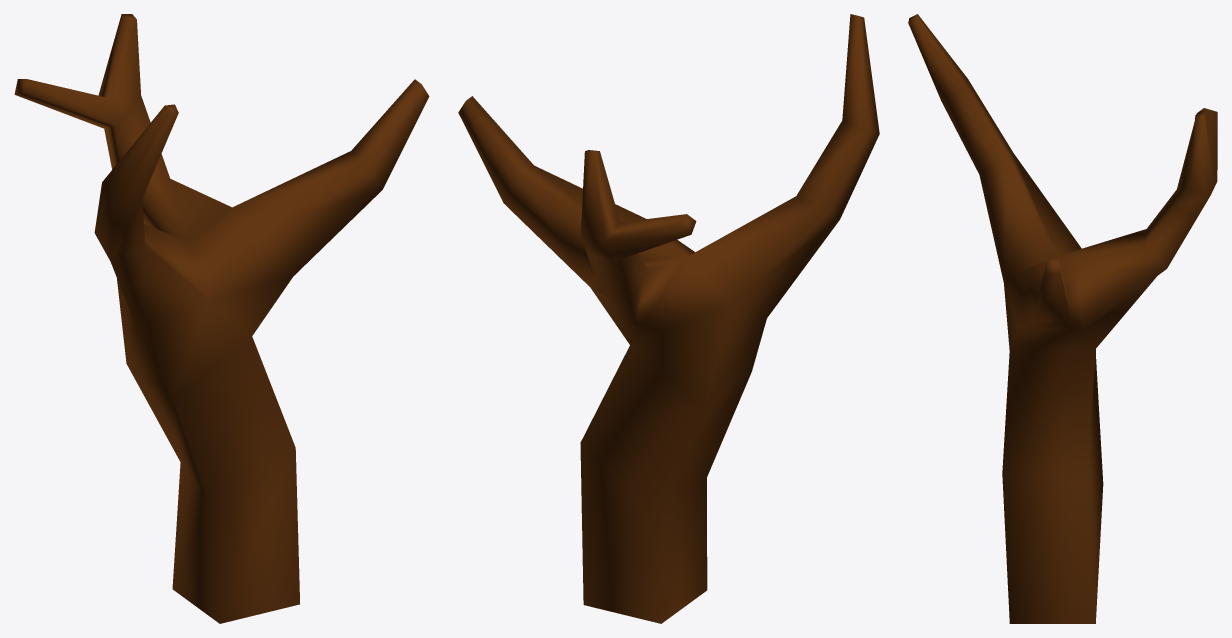
File: ARBRE.sans.feuille.glb
3 renders of one model, left to right at view 1: azimuth 30°, elevation 25°; view 2: azimuth 150°, elevation 25°; view 3: azimuth 270°, elevation 25°, orthographic. The views are drawn at different scales.
Parts seen in each view (by area): view 1: ARBRE.boule.tronc.001; view 2: ARBRE.boule.tronc.001; view 3: ARBRE.boule.tronc.001.
Boxes of the visible parts, x1,y1,x2,y2 form: ARBRE.boule.tronc.001: (14, 14, 429, 623); ARBRE.boule.tronc.001: (458, 14, 879, 623); ARBRE.boule.tronc.001: (908, 14, 1217, 623).
Bounding box in the file's own units: 0.5615 × 0.8415 × 0.4476.
Materials: 1 (1 with a texture image).
